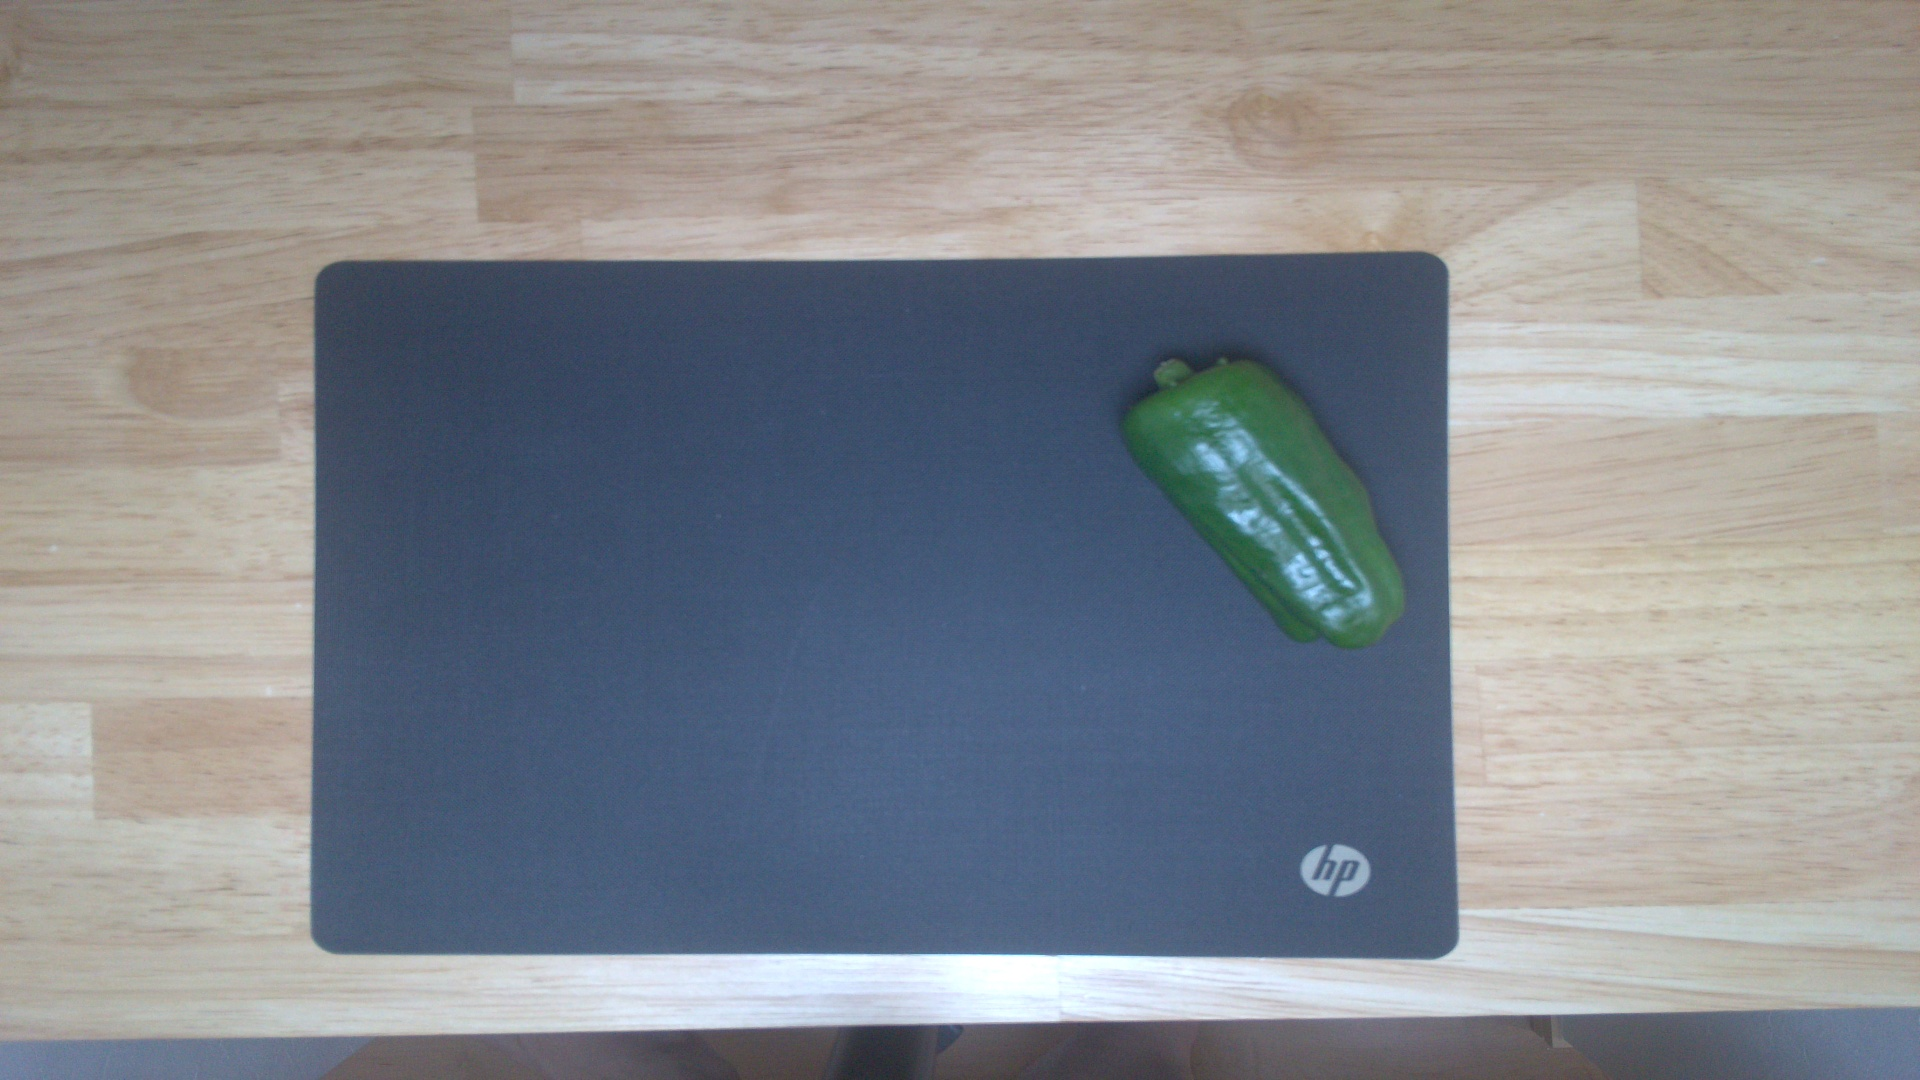Piman: (1114, 352, 1410, 650)
